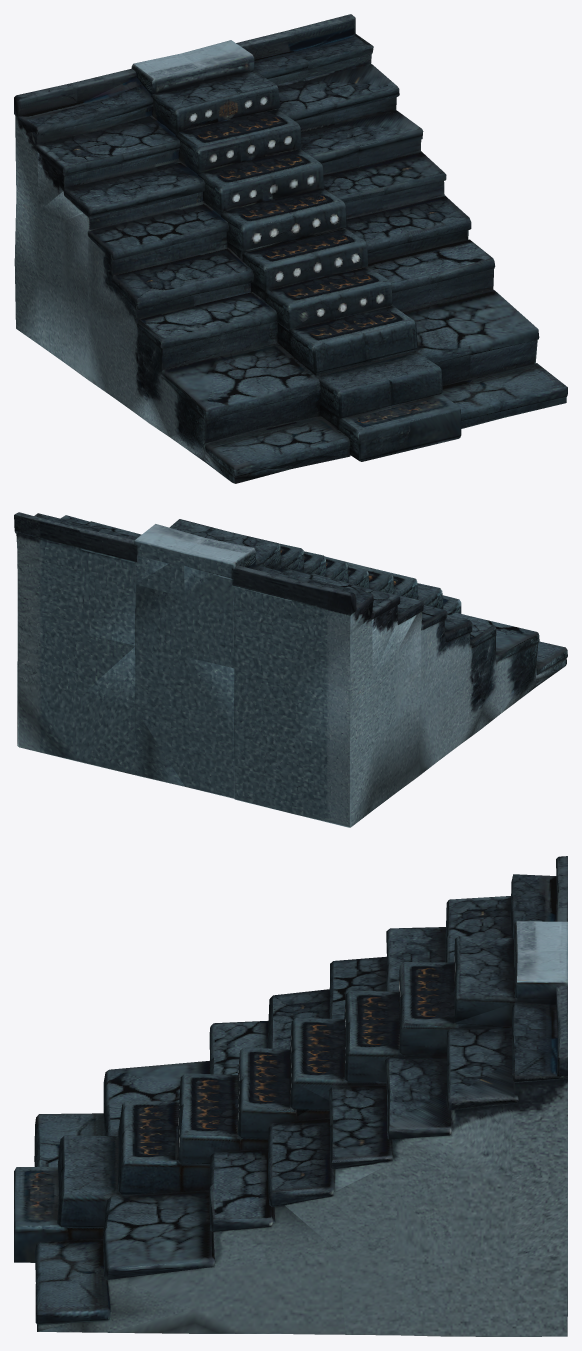
File: moon-stairs.glb
The picture shows the model from 3 angles, top to bottom: view 1: azimuth 30°, elevation 25°; view 2: azimuth 150°, elevation 25°; view 3: azimuth 270°, elevation 25°; orthographic projection. The views are drawn at different scales.
Bounding box in the file's own units: 0.8622 × 0.5763 × 1.
Materials: 1 (1 with a texture image).
